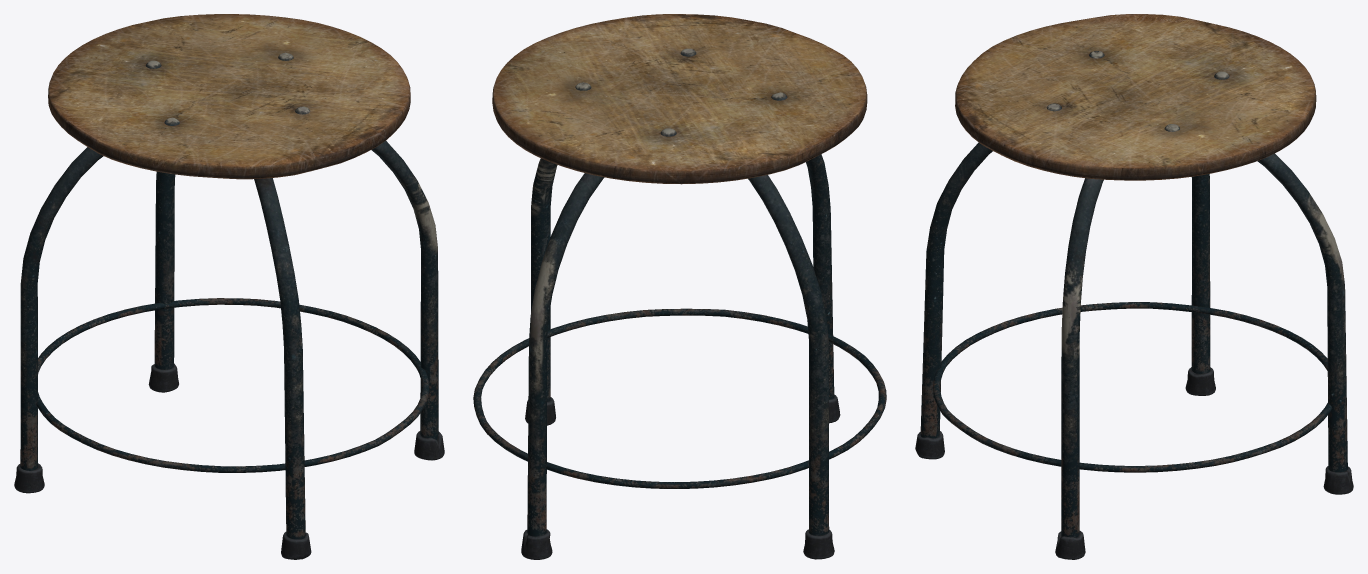
File: metal_stool_02.glb
3 views of the same model, side by side, from view 1: azimuth 30°, elevation 25°; view 2: azimuth 150°, elevation 25°; view 3: azimuth 270°, elevation 25° (orthographic). The views are drawn at different scales.
Visible parts, largest first — view 1: metal_stool_02; view 2: metal_stool_02; view 3: metal_stool_02.
Part boxes in pixels (x1=…): metal_stool_02: x1=14, y1=14, x2=444, y2=559; metal_stool_02: x1=473, y1=14, x2=886, y2=559; metal_stool_02: x1=915, y1=14, x2=1353, y2=559.
Bounding box in the file's own units: 0.4481 × 0.4581 × 0.4731.
Materials: 1 (1 with a texture image).
